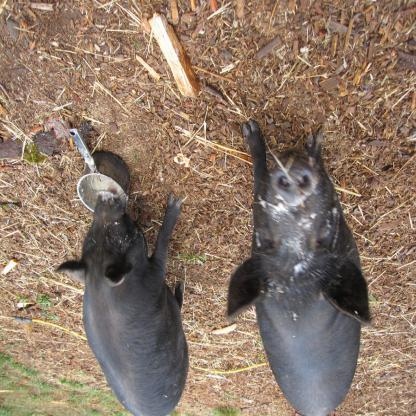boar: (225, 121, 373, 416), (52, 191, 189, 416)
